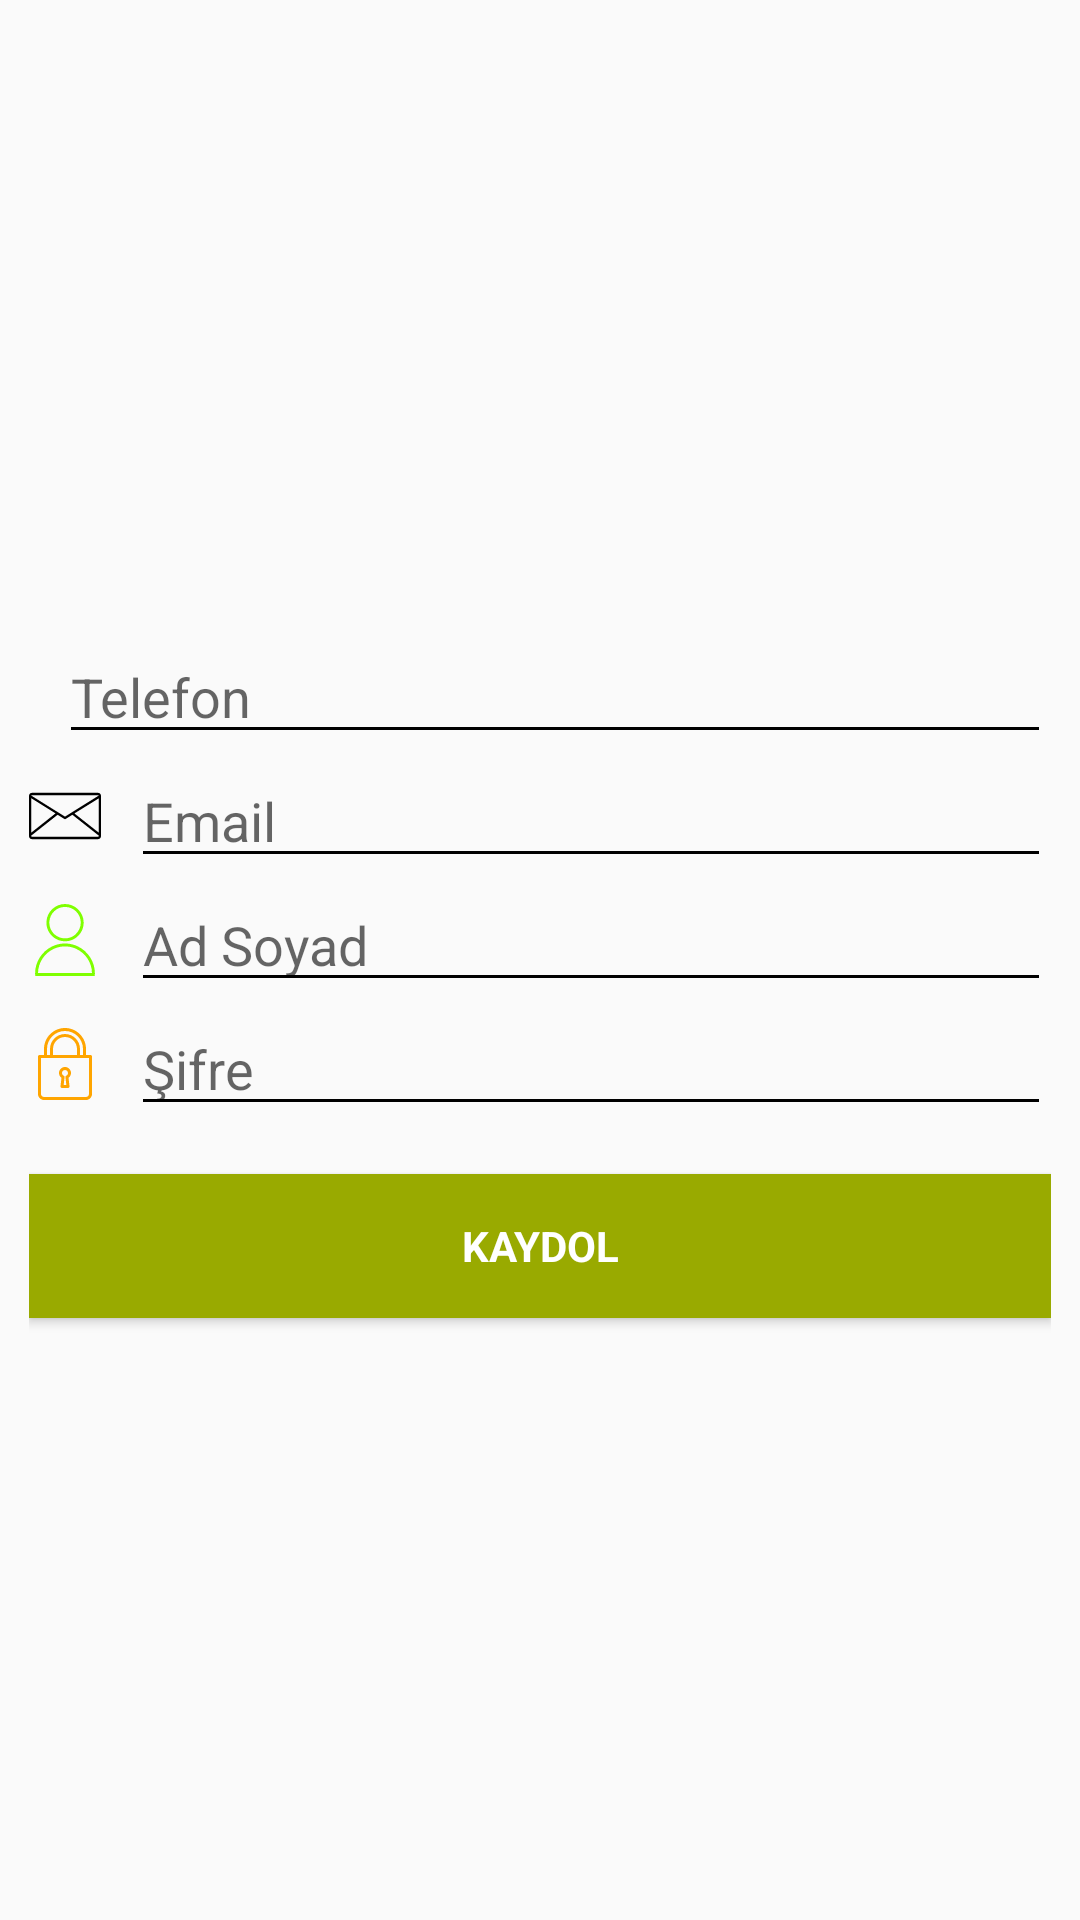

Named icons in this screenshot (1080px×1920px) and their bounding boxes, [x1,y1,x2,y2]:
lock yeni: [38,1028,92,1100]
message yeni: [29,792,101,840]
user yeni: [35,904,95,976]
